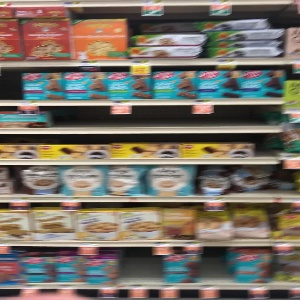void: (51, 102, 282, 131), (118, 247, 164, 287), (203, 247, 232, 285), (257, 129, 284, 159), (1, 68, 22, 100)
